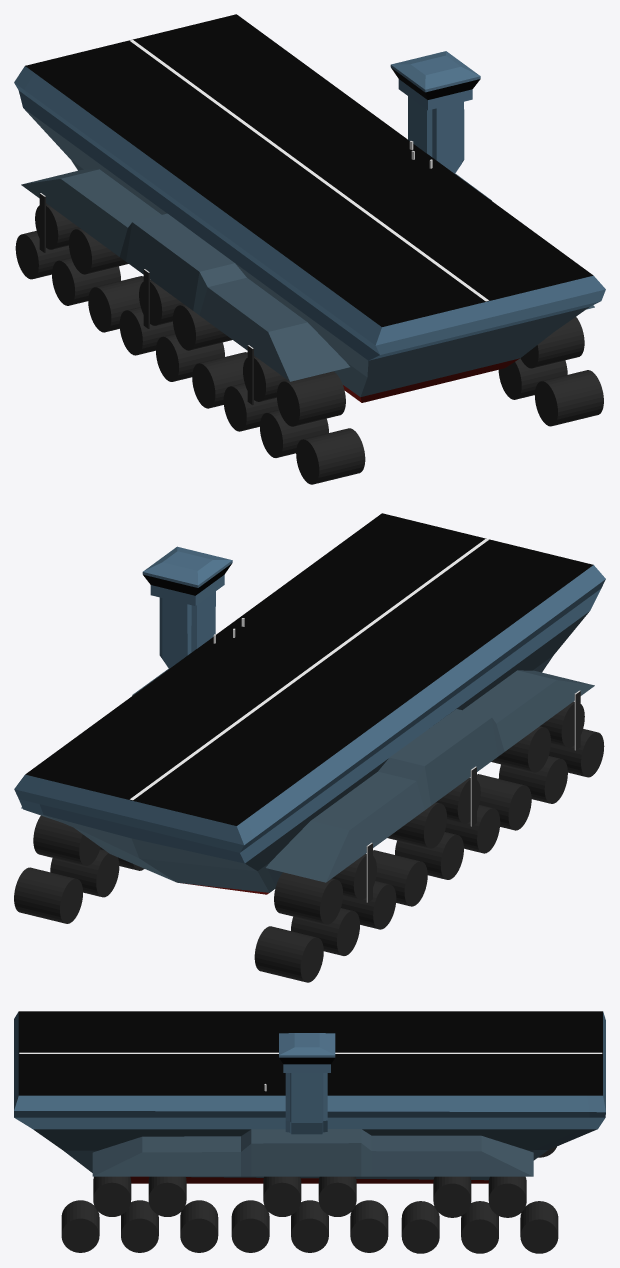
File: Land carrier 1 new.glb
The picture shows the model from 3 angles, top to bottom: view 1: azimuth 30°, elevation 25°; view 2: azimuth 150°, elevation 25°; view 3: azimuth 270°, elevation 25°; orthographic projection. The views are drawn at different scales.
Parts seen in each view (by area): view 1: Cube, Cube.002, Cube.001, Wheel.016, Wheel.019, Wheel.014, Wheel.034, Wheel.002, Wheel.015, Wheel.003, Wheel.033, Wheel.021 (+10 smaller); view 2: Cube, Cube.002, Cube.001, Wheel.001, Wheel, Wheel.010, Wheel.005, Wheel.030, Wheel.012, Wheel.003, Wheel.015, Wheel.033 (+10 smaller); view 3: Cube, Cube.001, Cube.002, Wheel, Wheel.019, Wheel.024, Wheel.028, Wheel.018, Wheel.008, Wheel.007, Wheel.020, Wheel.027 (+7 smaller).
Boxes of the visible parts, box(x1,y1,x2,y2) form: Cube: box(14, 14, 605, 402); Cube.002: box(390, 51, 480, 110); Cube.001: box(408, 96, 464, 173); Wheel.016: box(296, 428, 365, 484); Wheel.019: box(534, 370, 603, 426); Wheel.014: box(276, 371, 345, 426); Wheel.034: box(192, 352, 247, 408); Wheel.002: box(88, 276, 143, 332); Wheel.015: box(260, 410, 328, 457); Wheel.003: box(52, 258, 120, 305); Wheel.033: box(156, 334, 224, 381); Wheel.021: box(520, 317, 584, 368); Cube: box(14, 513, 605, 894); Cube.002: box(142, 546, 232, 605); Cube.001: box(159, 591, 215, 668); Wheel.001: box(254, 926, 323, 982); Wheel: box(14, 867, 82, 923); Wheel.010: box(274, 872, 342, 924); Wheel.005: box(33, 815, 100, 865); Wheel.030: box(373, 850, 427, 906); Wheel.012: box(477, 774, 531, 830); Wheel.003: box(291, 908, 359, 955); Wheel.015: box(498, 756, 567, 803); Wheel.033: box(395, 832, 463, 879); Cube: box(14, 1011, 605, 1183); Cube.001: box(285, 1073, 327, 1134); Cube.002: box(279, 1033, 335, 1072); Wheel: box(520, 1201, 558, 1253); Wheel.019: box(61, 1200, 99, 1252); Wheel.024: box(350, 1200, 388, 1252); Wheel.028: box(231, 1200, 269, 1252); Wheel.018: box(180, 1200, 218, 1252); Wheel.008: box(401, 1201, 439, 1253); Wheel.007: box(461, 1201, 498, 1253); Wheel.020: box(121, 1200, 158, 1252); Wheel.027: box(291, 1200, 328, 1252).
Bounding box in the file's own units: 75.64 × 57.33 × 150.
